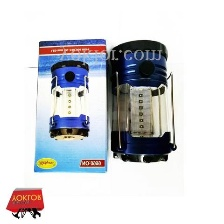book: (28, 31, 112, 180)
